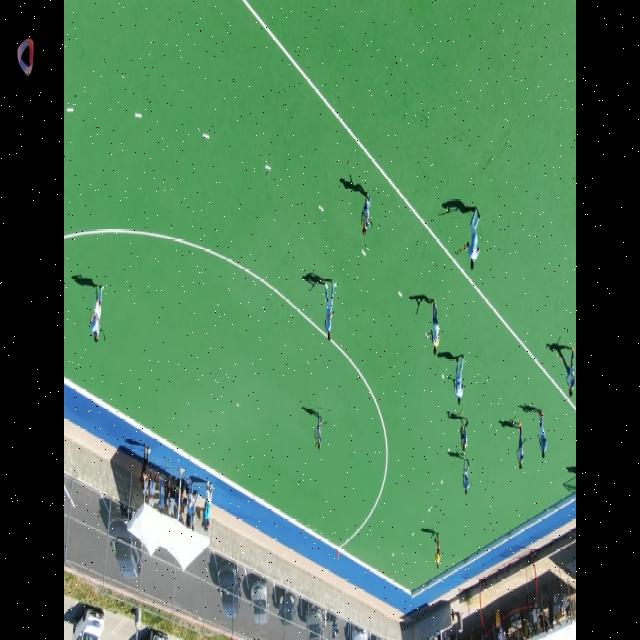humans: (464, 204, 482, 272), (89, 278, 106, 349), (557, 340, 575, 404), (323, 275, 338, 348), (358, 184, 372, 244), (428, 299, 441, 361), (452, 351, 466, 406), (312, 406, 325, 456), (139, 444, 151, 496), (515, 421, 526, 476), (536, 408, 546, 465), (431, 527, 441, 574), (458, 415, 468, 459), (203, 478, 211, 533), (461, 460, 471, 497)
